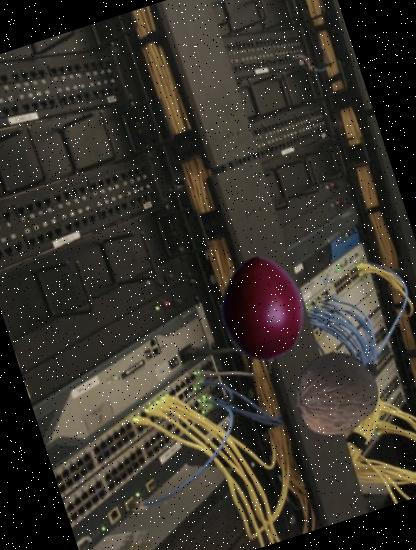Tamarillo: (192, 242, 336, 386)
Walnut: (283, 339, 390, 446)
